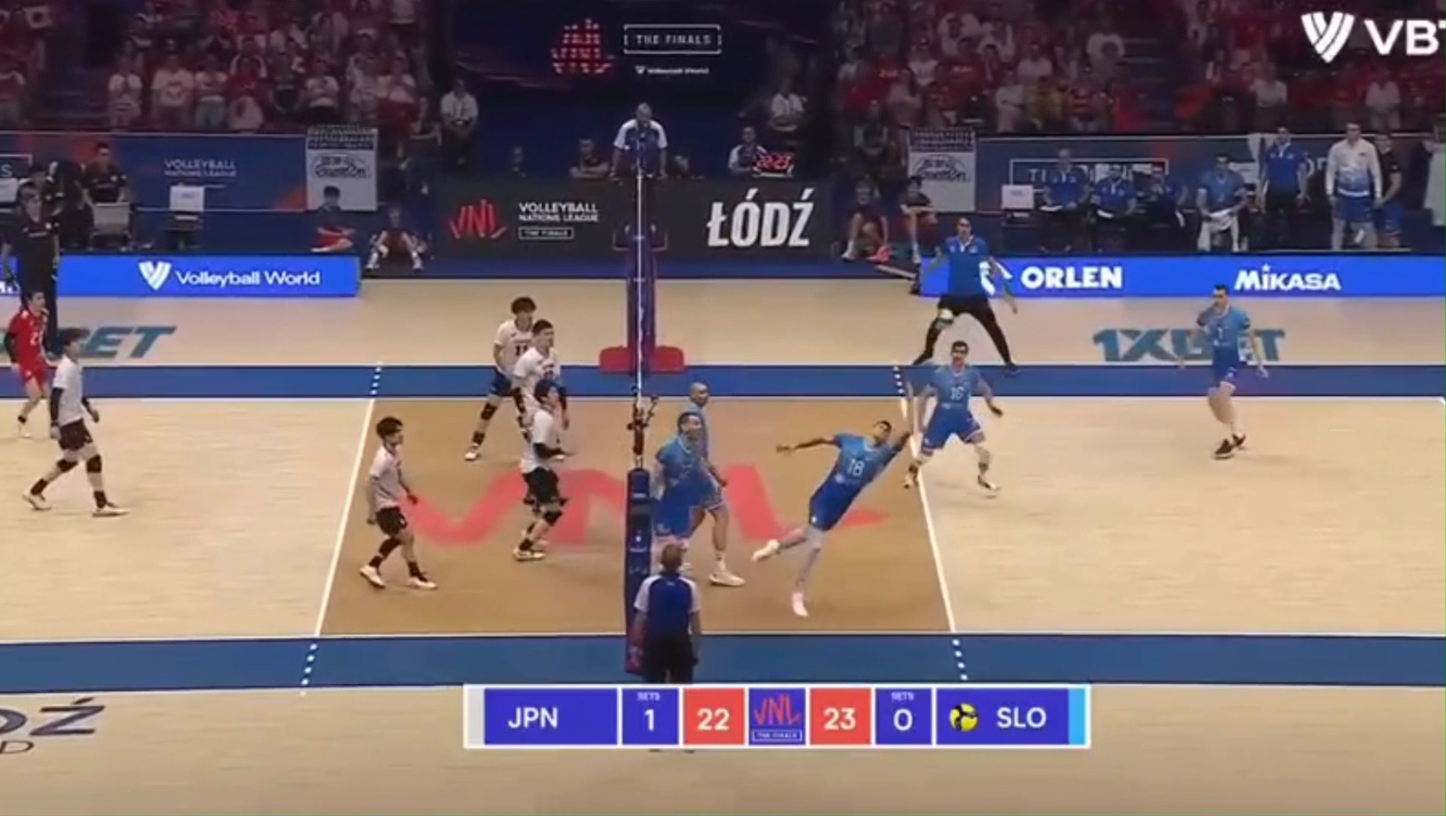ball: (935, 308, 956, 326)
player: (752, 419, 910, 617), (906, 340, 1002, 491), (680, 382, 745, 586), (1196, 284, 1266, 459), (653, 425, 712, 546)
player 1: (24, 332, 128, 516), (360, 416, 436, 589), (463, 296, 536, 461), (514, 380, 566, 561), (4, 291, 49, 430), (511, 320, 564, 414)
referee: (913, 217, 1017, 371), (632, 540, 701, 684), (0, 197, 59, 351), (612, 104, 668, 251)
